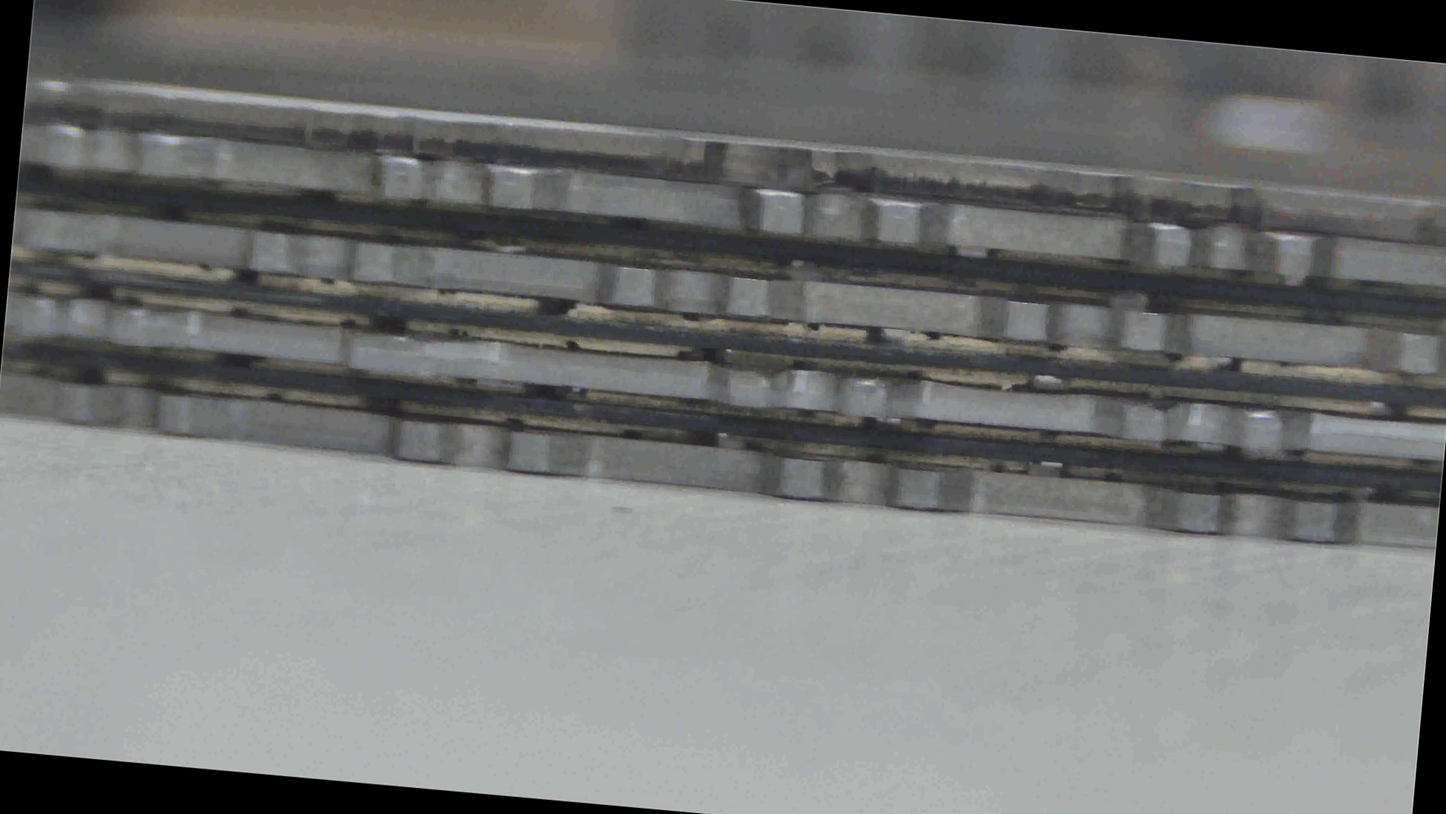Black metal plate: (0, 375, 1439, 548), (2, 135, 1442, 187)
shiney metal plate: (10, 188, 1422, 567), (0, 181, 1445, 234), (4, 269, 1445, 318)
spacer: (63, 63, 1446, 442), (0, 404, 1445, 437), (2, 462, 1445, 488)
